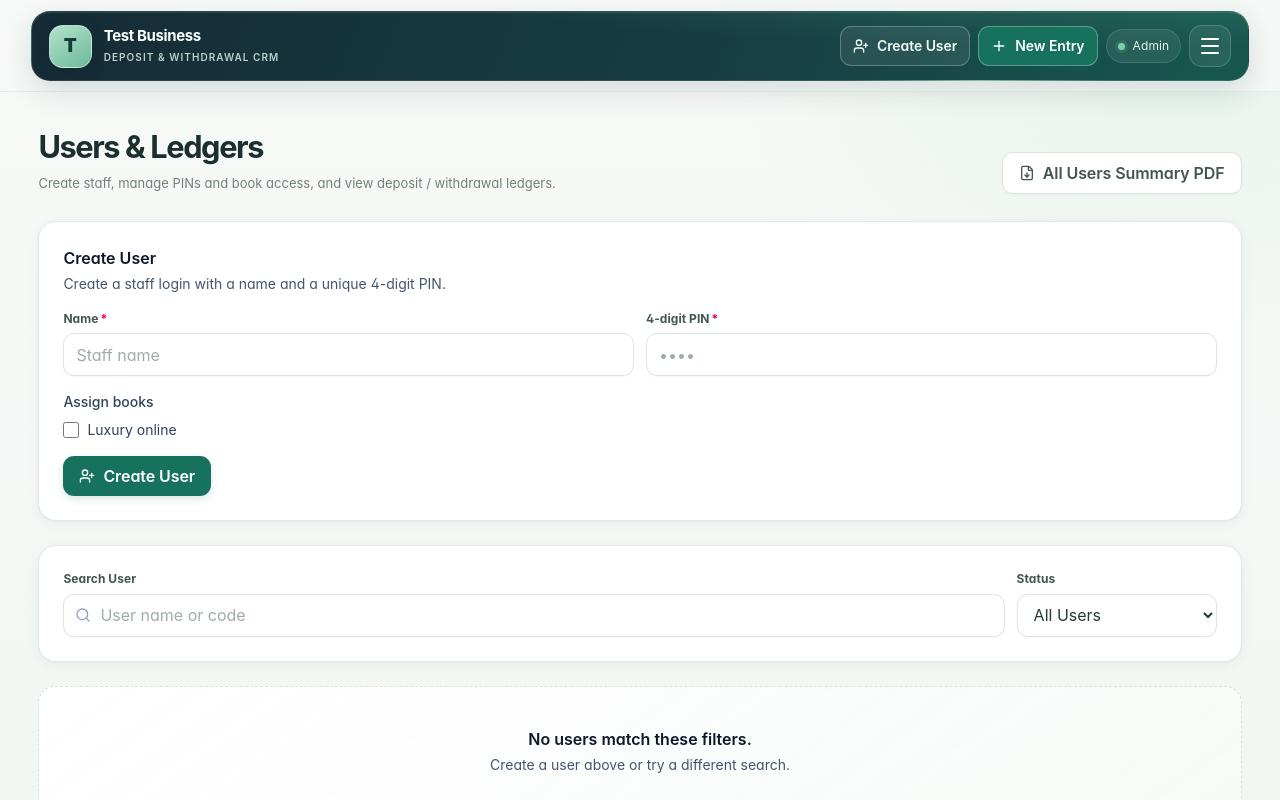
Test: header navigation drawer › supports Escape, keyboard reopening, outside click and toggling closed
The image size is (1280, 800).
Expected: the heading "Create User" is shown, left=63, top=248, right=156, bottom=268
Click the button named "Open navigation menu" at [1210, 46], box left=1189, top=25, right=1231, bottom=67
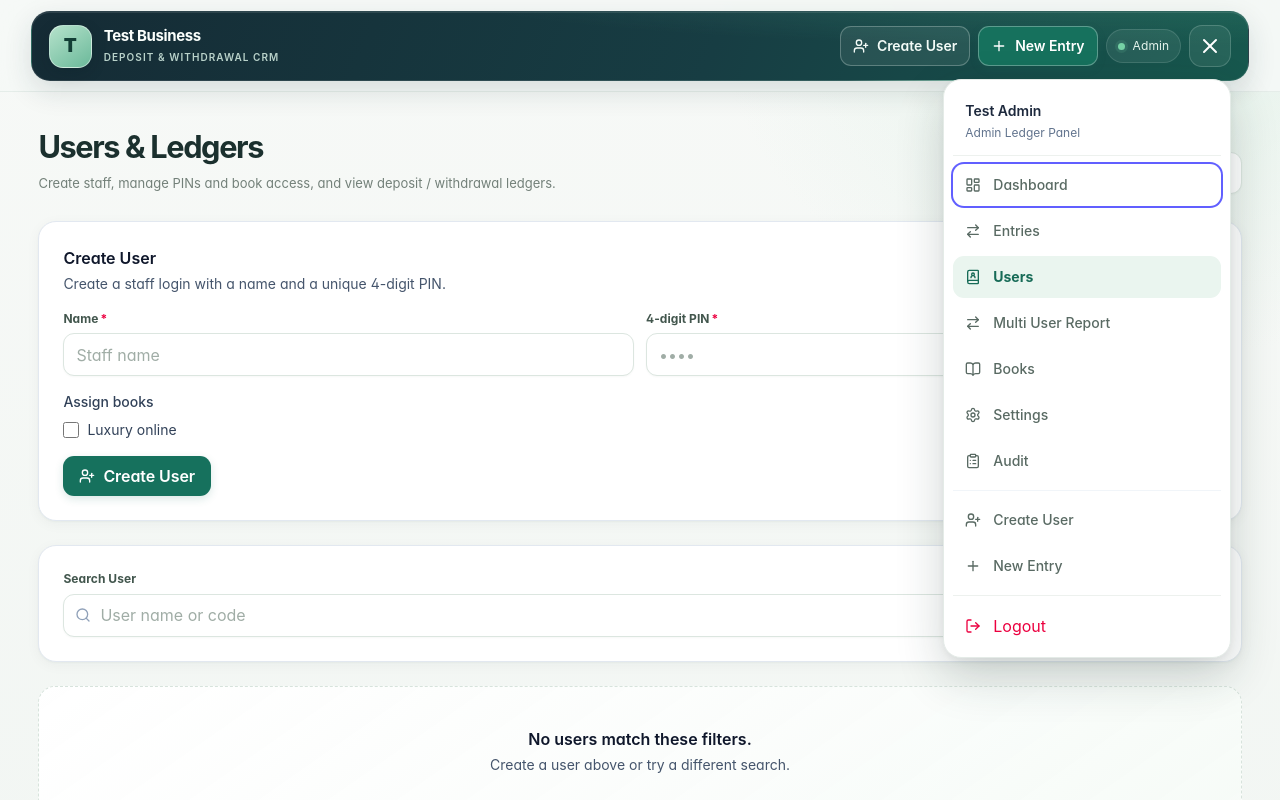
Press Escape
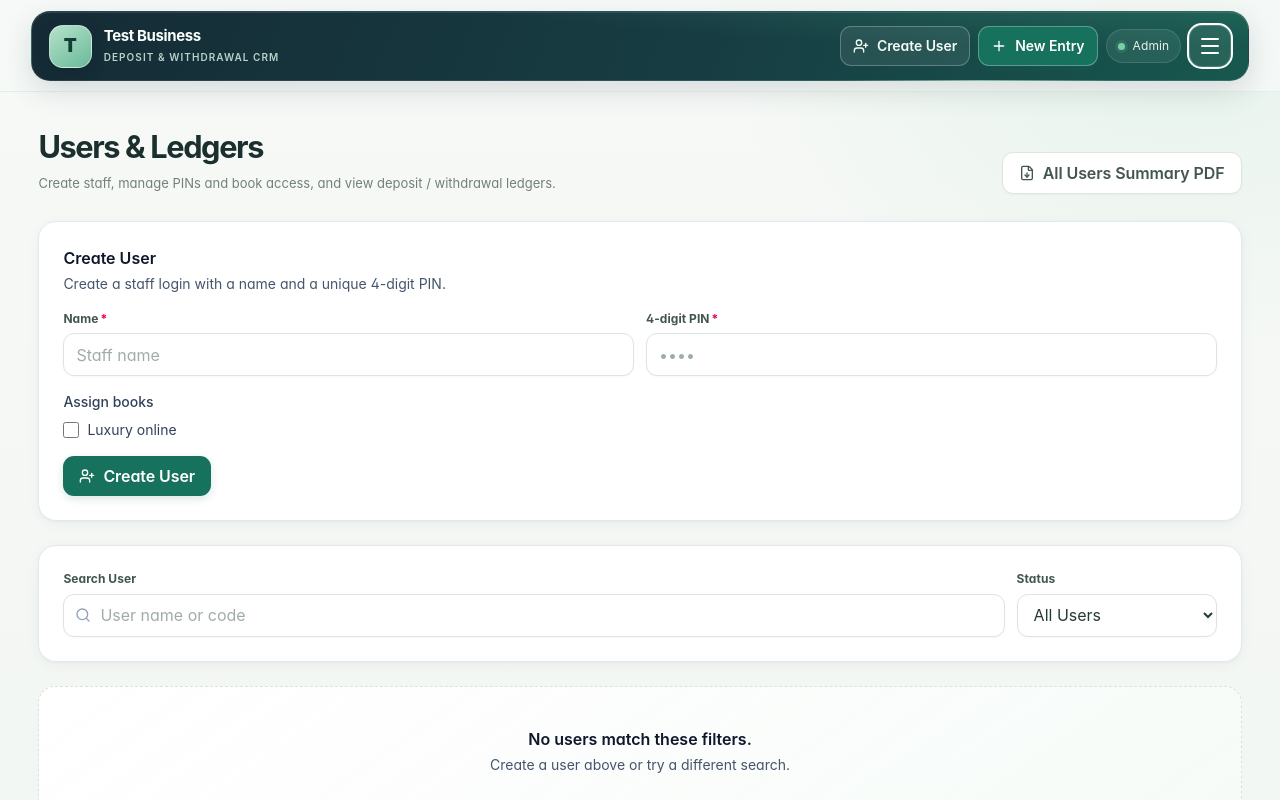
Expected: the button named "Open navigation menu" is collapsed, left=1189, top=25, right=1231, bottom=67
Type keys " "
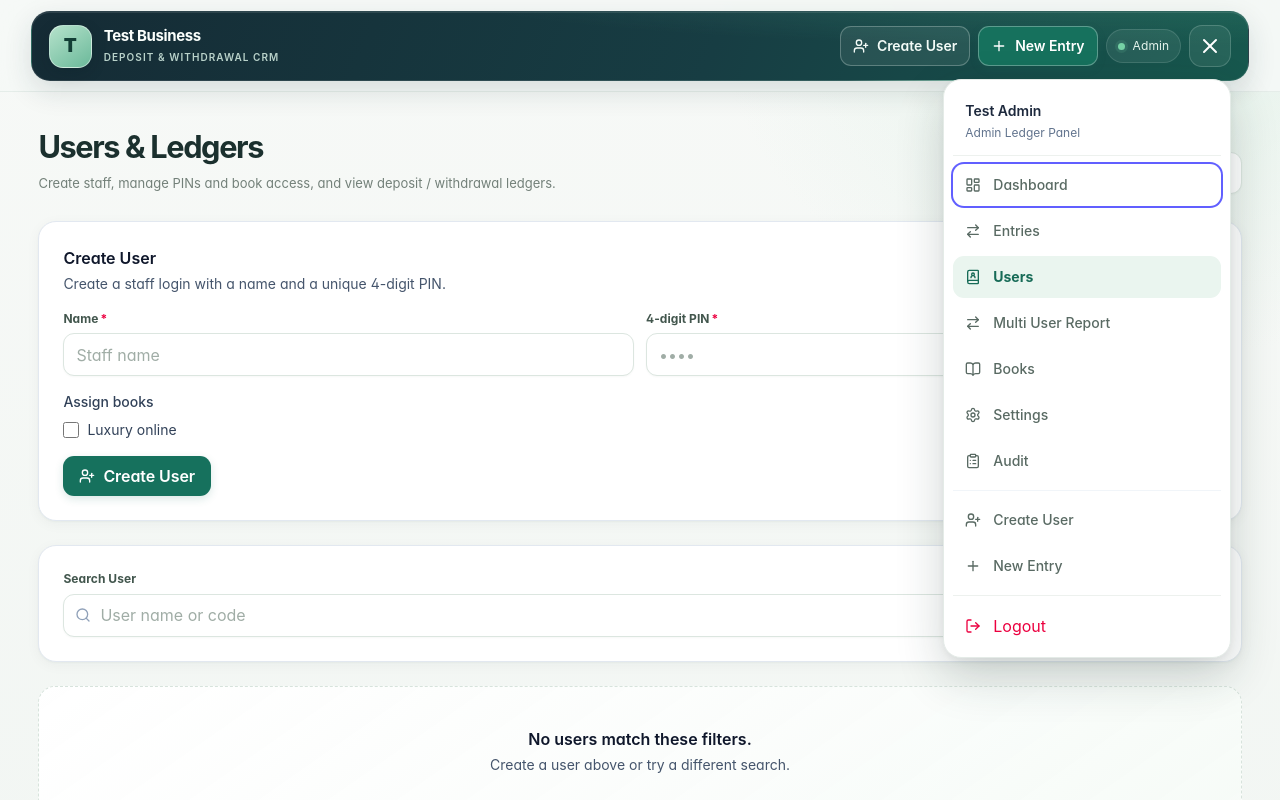
Expected: the button named "Open navigation menu" is expanded, left=1189, top=25, right=1231, bottom=67
Click the heading "Users & Ledgers" at [151, 147], box left=38, top=128, right=263, bottom=165
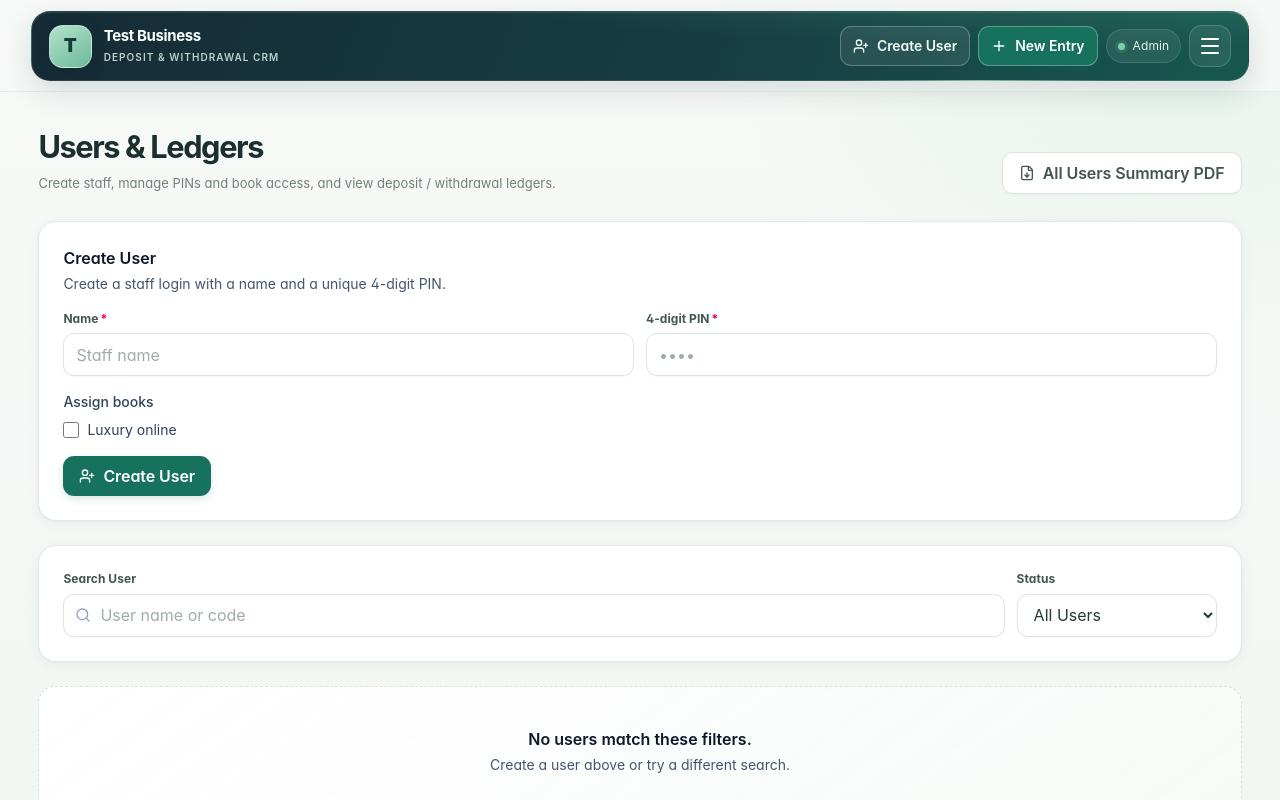
Expected: the button named "Open navigation menu" is collapsed
Click the button named "Open navigation menu" at [1210, 46], box left=1189, top=25, right=1231, bottom=67
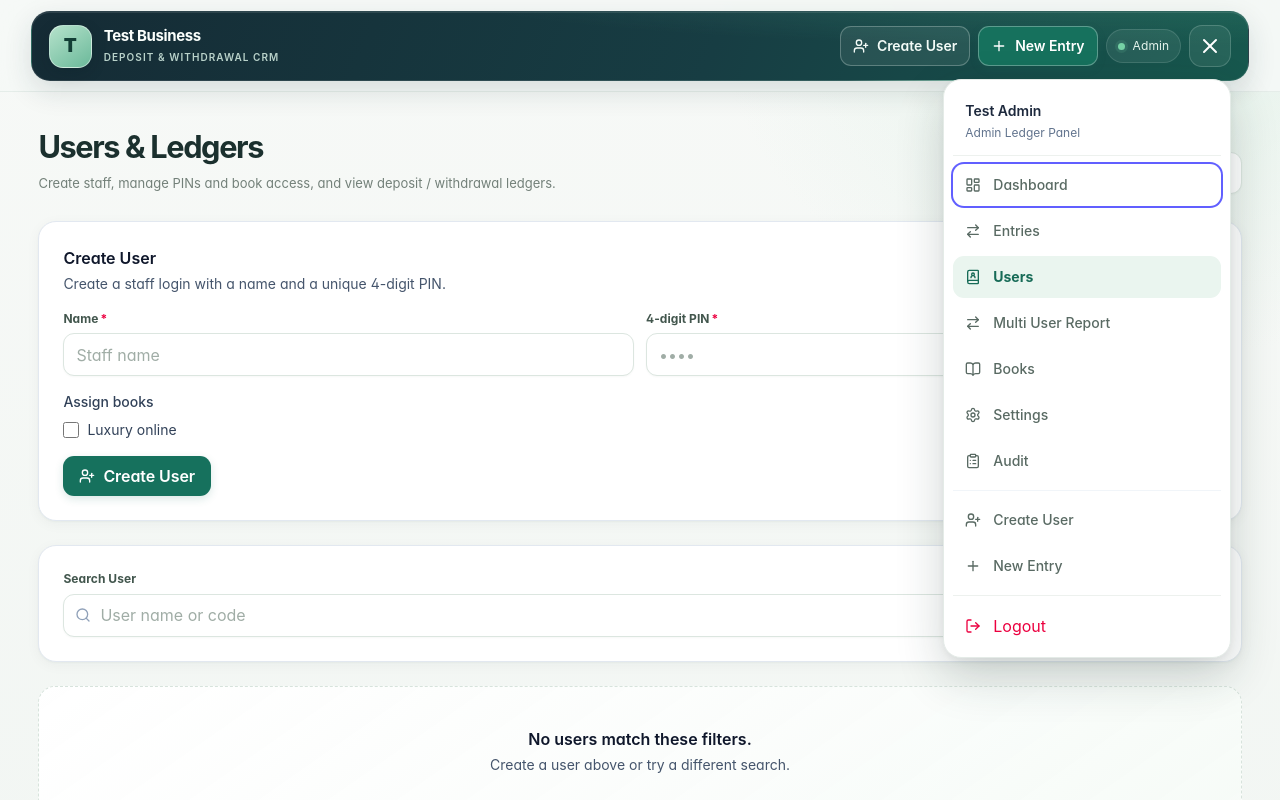
Click the button named "Open navigation menu" at [1210, 46], box left=1189, top=25, right=1231, bottom=67
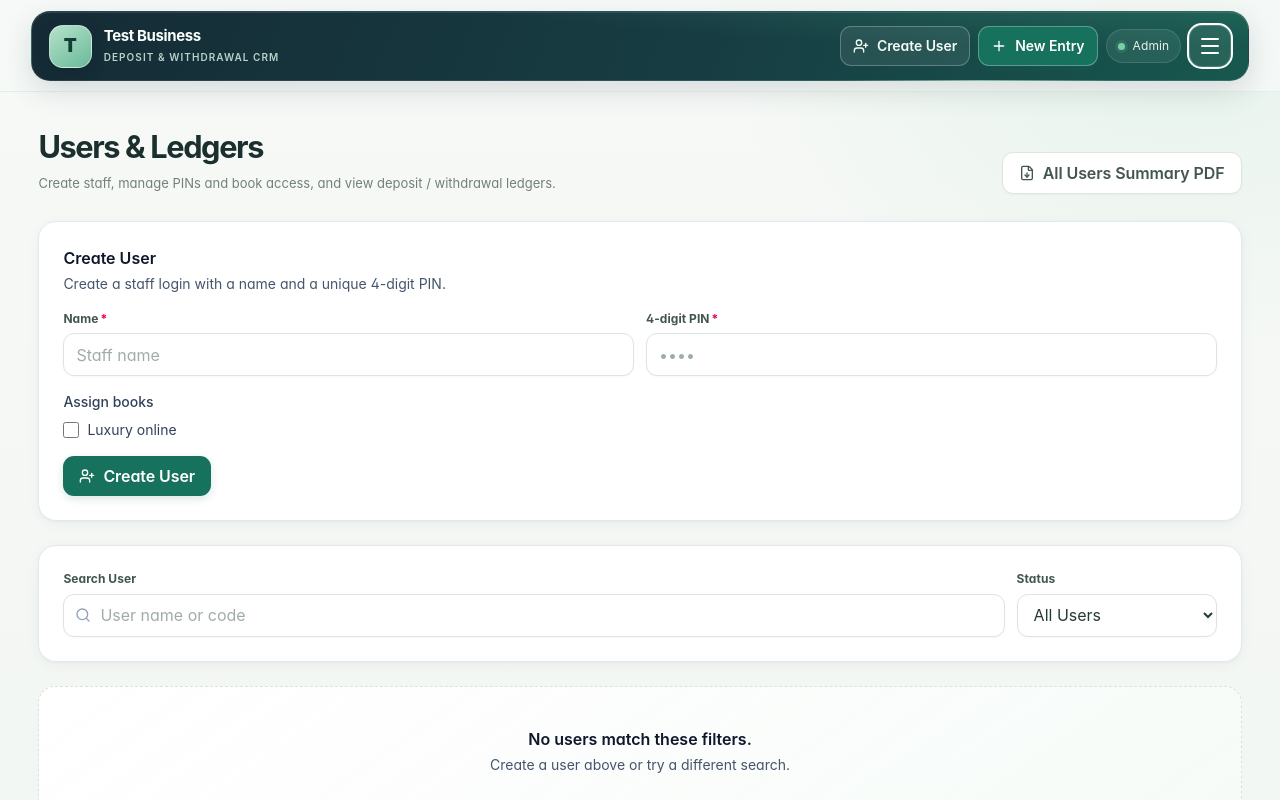
Expected: the button named "Open navigation menu" is collapsed, left=1189, top=25, right=1231, bottom=67
